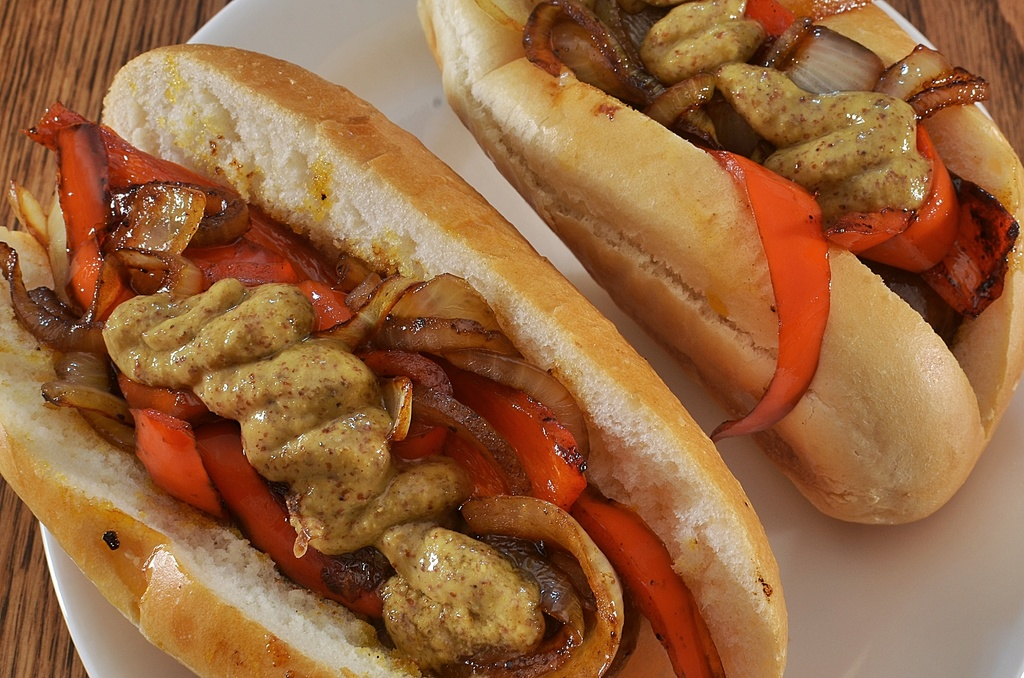hot_dog: (0, 3, 893, 678)
